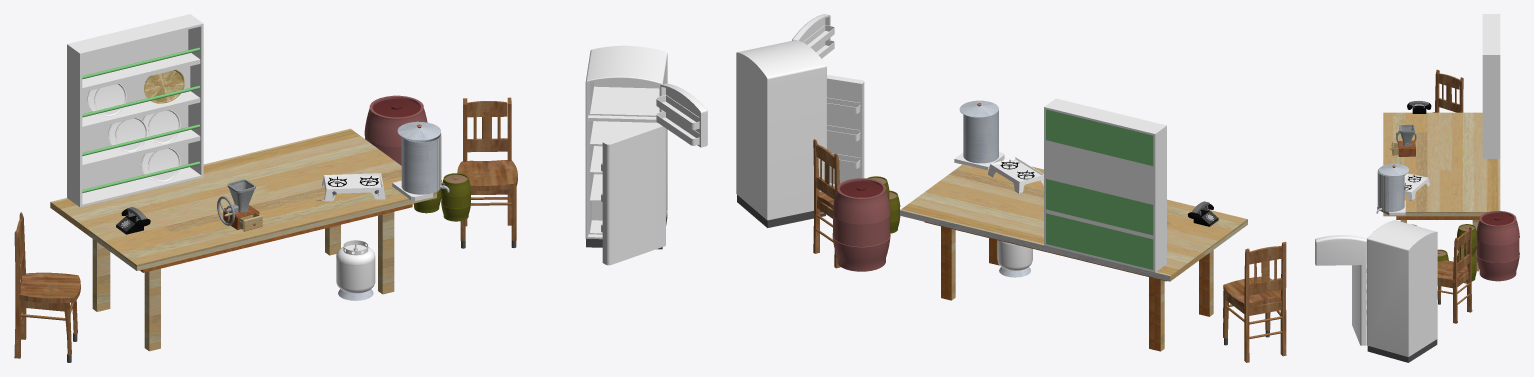
Rendered from kitchen.FBX.
3 views of the same model, side by side, from view 1: azimuth 30°, elevation 25°; view 2: azimuth 150°, elevation 25°; view 3: azimuth 270°, elevation 25° (orthographic). The views are drawn at different scales.
Parts seen in each view (by area): view 1: Group_276, Group_342, Group_326, Group_317, Group_277, Group_341, Group_378, Group_332, Group_352, Group_314, Group_376, Group_379 (+17 smaller); view 2: Group_342, Group_317, Group_276, Group_378, Group_277, Group_326, Group_332, Group_231, Group_314, Group_228, Group_301, Group_294 (+4 smaller); view 3: Group_276, Group_317, Group_378, Group_342, Group_322, Group_326, Group_332, Group_376, Group_277, Group_231, Group_356, Group_381 (+8 smaller).
Boxes of the visible parts, x1,y1,x2,y2 form: Group_276: [50, 128, 436, 270]; Group_342: [67, 14, 203, 207]; Group_326: [602, 123, 665, 265]; Group_317: [585, 45, 667, 249]; Group_277: [92, 204, 412, 351]; Group_341: [82, 29, 188, 189]; Group_378: [364, 95, 427, 165]; Group_332: [401, 133, 441, 194]; Group_352: [82, 47, 200, 192]; Group_314: [19, 272, 80, 303]; Group_376: [457, 160, 517, 190]; Group_379: [441, 173, 470, 221]; Group_342: [1044, 98, 1166, 272]; Group_317: [736, 40, 826, 227]; Group_276: [900, 159, 1247, 281]; Group_378: [832, 178, 890, 271]; Group_277: [924, 221, 1213, 351]; Group_326: [827, 74, 864, 186]; Group_332: [963, 110, 998, 163]; Group_231: [988, 157, 1043, 193]; Group_314: [1223, 276, 1281, 307]; Group_228: [997, 240, 1032, 270]; Group_301: [1280, 242, 1286, 356]; Group_294: [1244, 248, 1249, 362]; Group_276: [1383, 112, 1500, 216]; Group_317: [1367, 220, 1437, 362]; Group_378: [1476, 211, 1519, 281]; Group_342: [1482, 14, 1500, 158]; Group_322: [1315, 235, 1366, 265]; Group_326: [1352, 265, 1366, 345]; Group_332: [1377, 168, 1404, 211]; Group_376: [1437, 260, 1468, 282]; Group_277: [1396, 216, 1480, 271]; Group_231: [1404, 173, 1430, 200]; Group_356: [1453, 237, 1457, 323]; Group_381: [1457, 224, 1477, 256].
Bounding box in the file's own units: 226 × 87.86 × 93.7.
26 materials, 13 textured.
